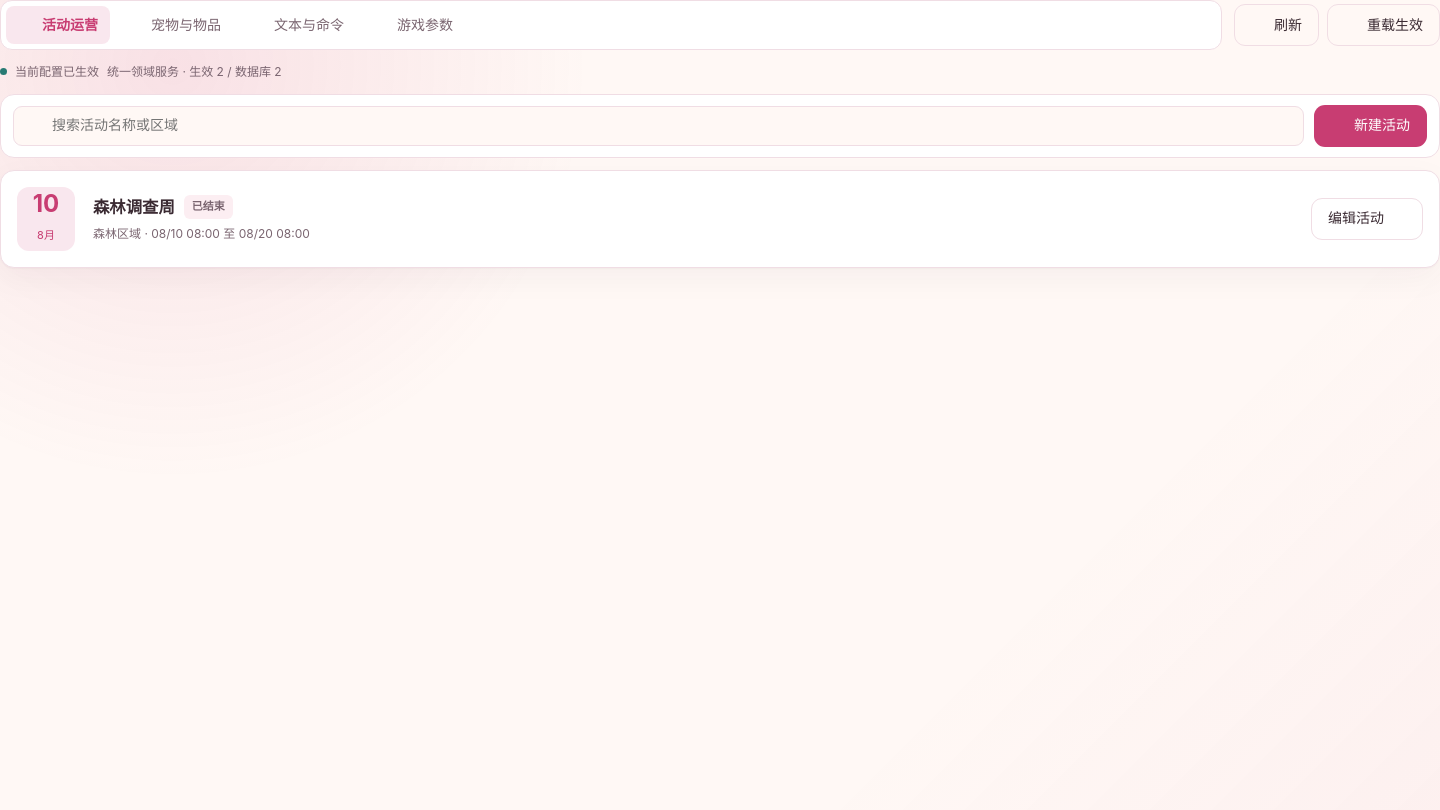
Test: ContentView 内容工作台 › 活动抽屉按步骤解释时间、进度来源、故事选项和多物品奖励
Click the button "编辑活动" at (1367, 219), box [1311,198,1423,240]
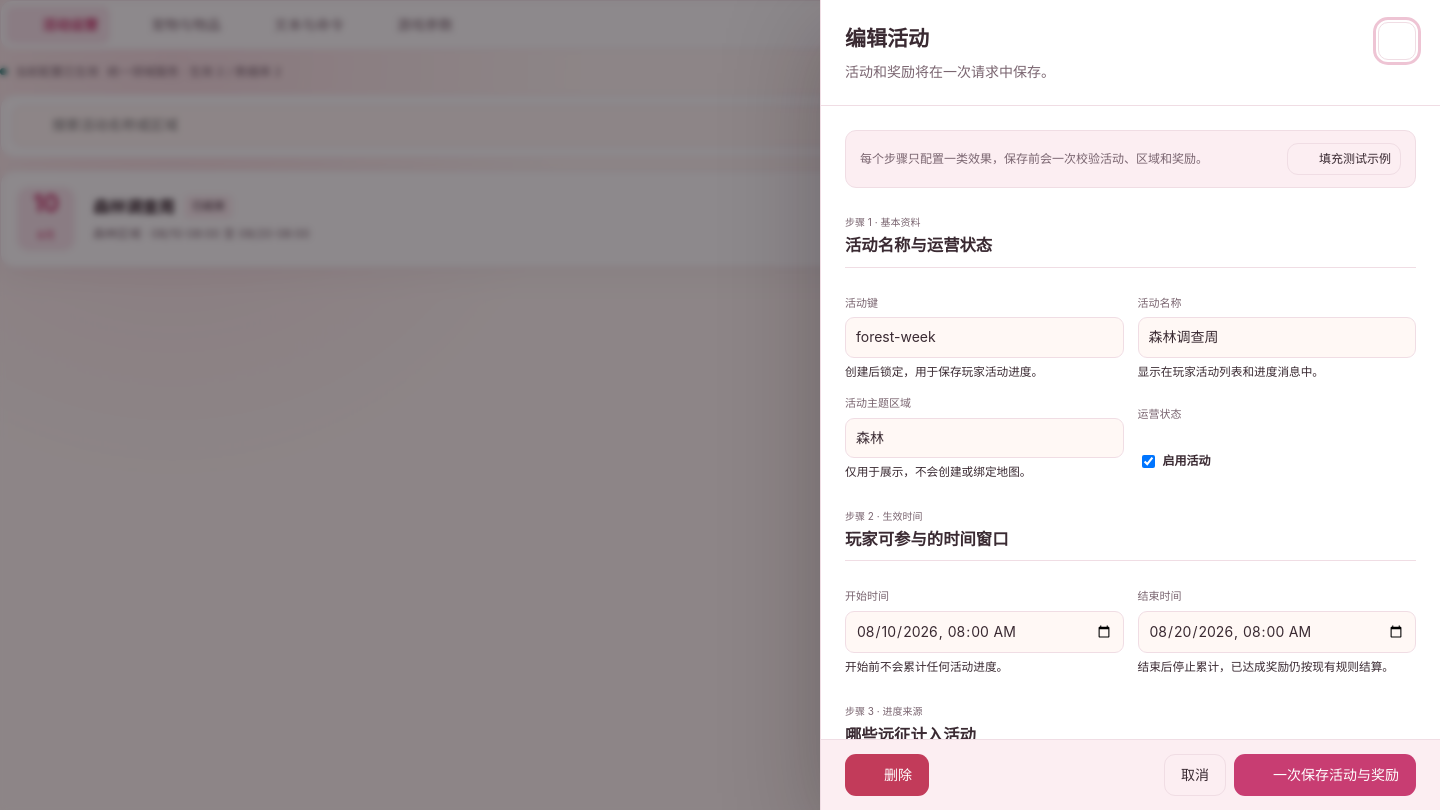
expect the text "基本资料" is shown: met, box [845,216,920,228]
expect the text "生效时间" is shown: met, box [845,510,922,522]
expect the text "填充测试示例" is shown: met, box [1287,143,1401,175]
